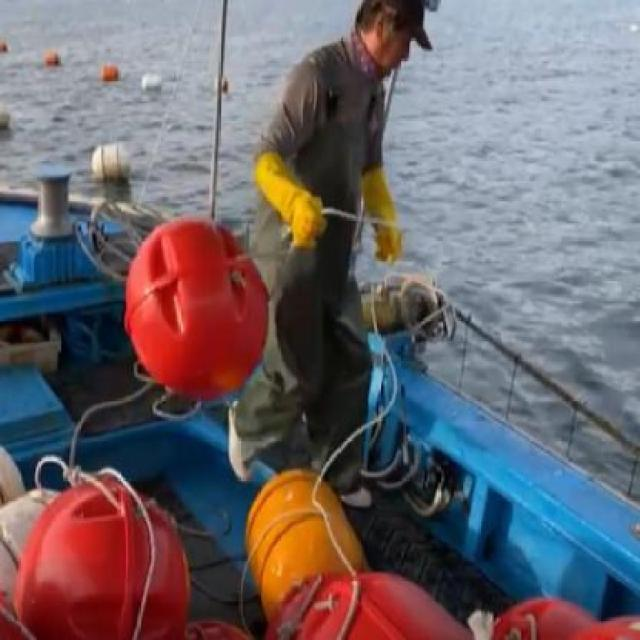a: (13, 466, 204, 640), (116, 216, 274, 400), (236, 454, 387, 623), (82, 134, 140, 183), (138, 65, 172, 100), (97, 58, 125, 86), (43, 49, 67, 73)
